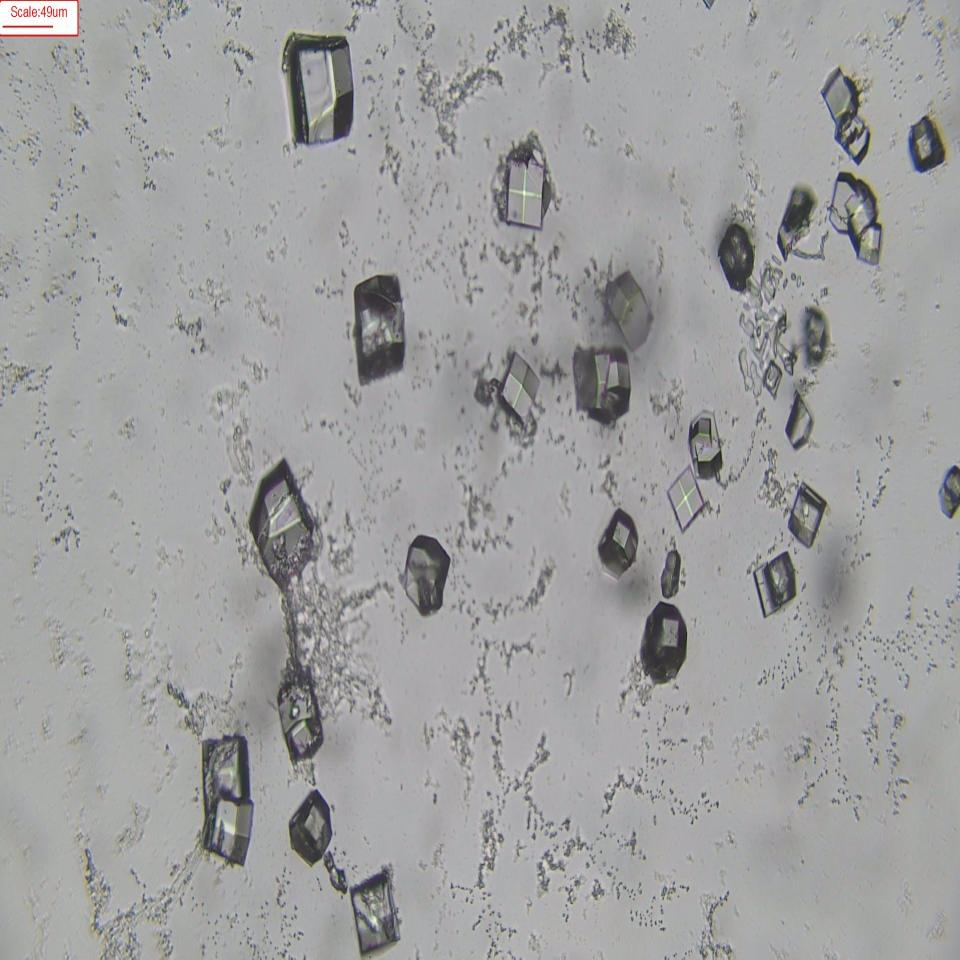crystal: (286, 34, 357, 147), (253, 464, 309, 576), (352, 270, 407, 380), (350, 876, 401, 954), (278, 672, 322, 761), (501, 154, 547, 237), (403, 533, 449, 614), (644, 603, 689, 679), (606, 273, 652, 344), (289, 788, 333, 862), (711, 218, 750, 301), (499, 350, 538, 432), (597, 509, 641, 574), (756, 551, 794, 613), (667, 468, 701, 536), (789, 482, 824, 547), (687, 409, 721, 474), (909, 114, 942, 168), (785, 392, 813, 450)
not_crystal: (197, 724, 254, 857), (567, 344, 634, 422), (822, 66, 874, 162), (829, 171, 881, 259)
